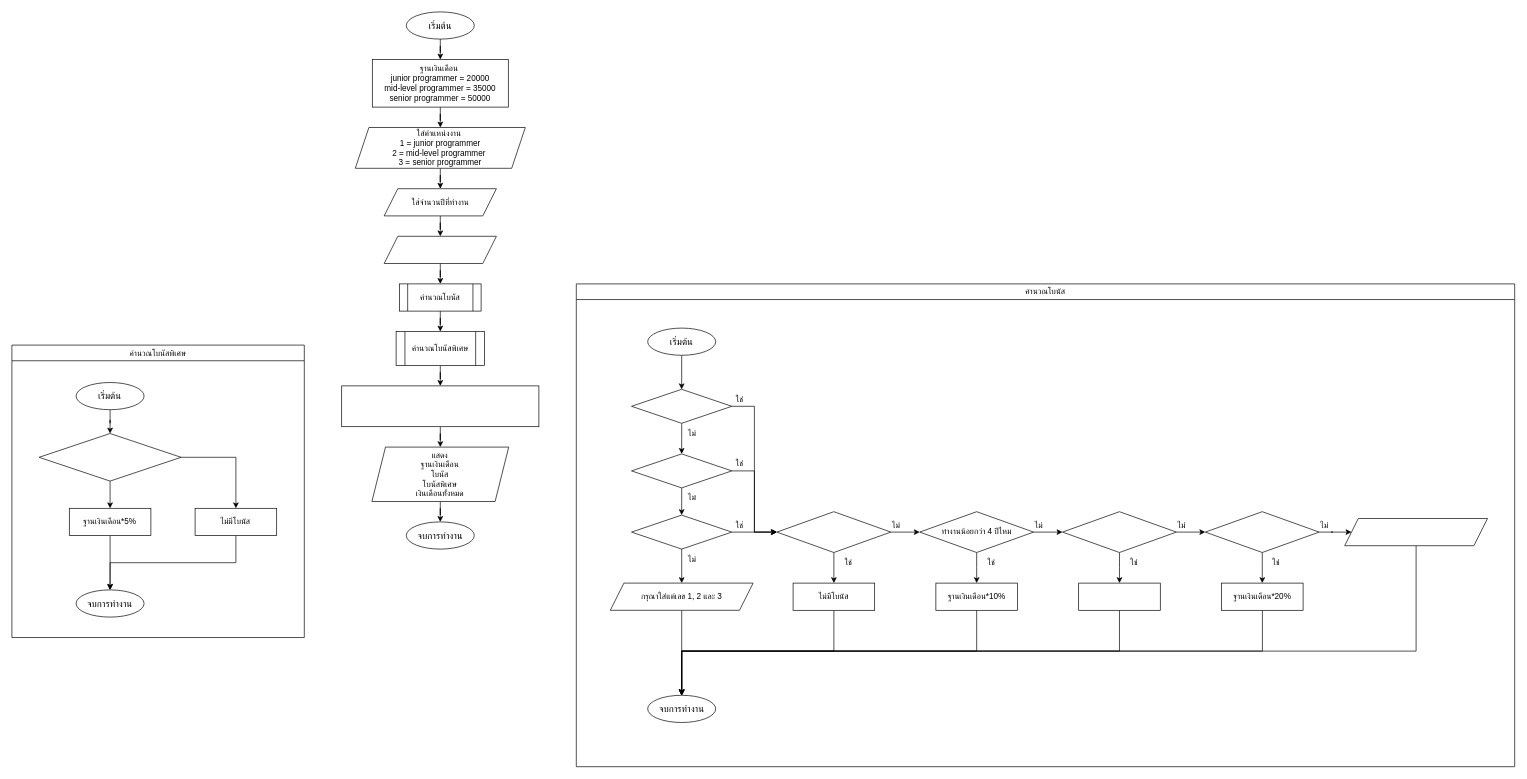
The diagram is 1527 pixels wide and 779 high, and some of its shapes have lost their labels. The shapes that lost their labels are listed below. From the top down, each one's centre as x and y in pixels, then its label:
At (440,250): "ใส่จำนวนโปรเจ็คที่เสร็จ".
At (440,406): "เงินเดือนทั้งหมด = ฐานเงินเดือน + โบนัส + โบนัสพิเศษ".
At (681,406): "เป็นเลข 1 ไหม".
At (109,457): "ทำโปรเจคได้มากกว่า 5 หรือไม่".
At (681,470): "เป็นเลข 2 ไหม".
At (681,531): "เป็นเลข 3 ไหม".
At (833,531): "ทำงานน้อยกว่า 1 ปีไหม".
At (1119,531): "ทำงานน้อยกว่า 6 ปีไหม".
At (1262,531): "ทำงาน 6 ปีขึ้นไปไหม".
At (1416,532): "กรุณาใส่แต่เลข".
At (1119,596): "ฐานเงินเดือน*15%".
